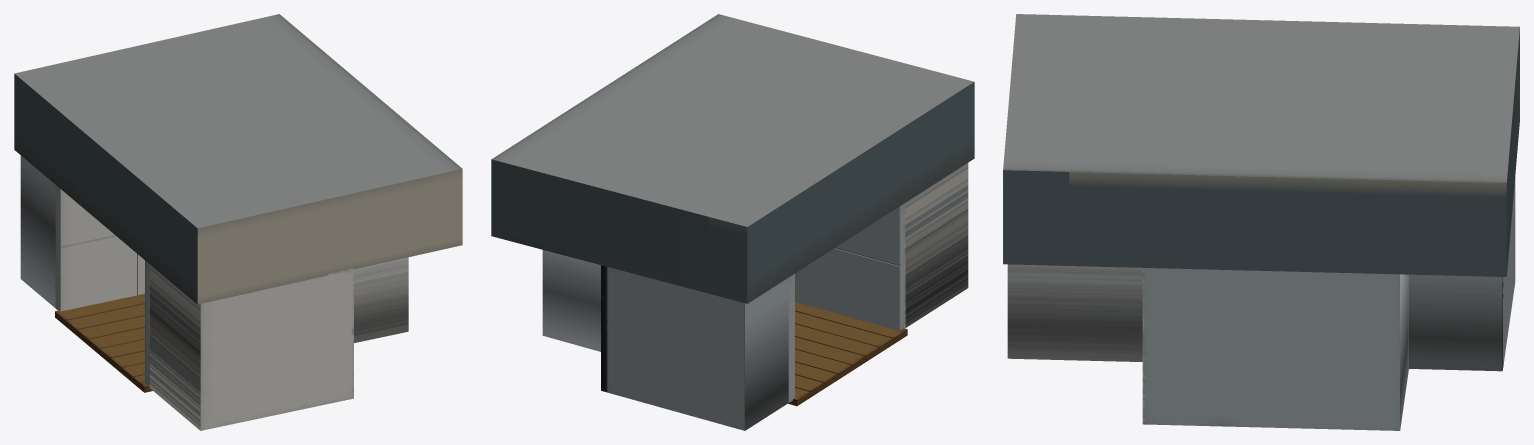
File: Office121.fbx
3 views of the same model, side by side, from view 1: azimuth 30°, elevation 25°; view 2: azimuth 150°, elevation 25°; view 3: azimuth 270°, elevation 25° (orthographic). The views are drawn at different scales.
Parts seen in each view (by area): view 1: Office roof, Office walls, Office floor; view 2: Office roof, Office walls, Office floor; view 3: Office roof, Office walls.
Part boxes in pixels (bbox=[...]): Office roof: bbox=[14, 14, 462, 304]; Office walls: bbox=[20, 155, 408, 430]; Office floor: bbox=[55, 293, 152, 392]; Office roof: bbox=[491, 14, 974, 303]; Office walls: bbox=[542, 163, 968, 430]; Office floor: bbox=[788, 302, 907, 406]; Office roof: bbox=[1003, 14, 1519, 276]; Office walls: bbox=[1007, 178, 1515, 430].
Size of the model in its own units: 1140 by 814 by 1474.
Materials: 3 (3 with a texture image).
